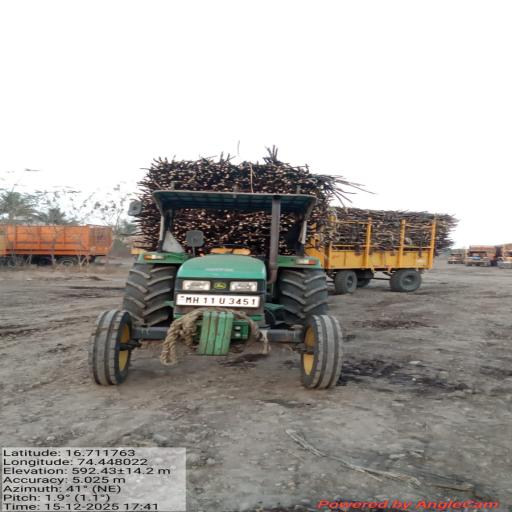number_plate: (176, 294, 260, 307)
